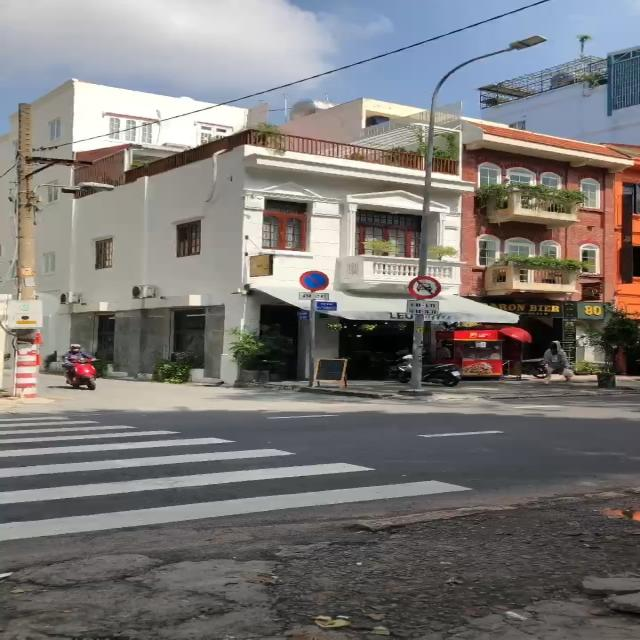Bien bao cam do xe: (296, 270, 331, 292)
Bien bao cam xe oto: (406, 274, 444, 301)
